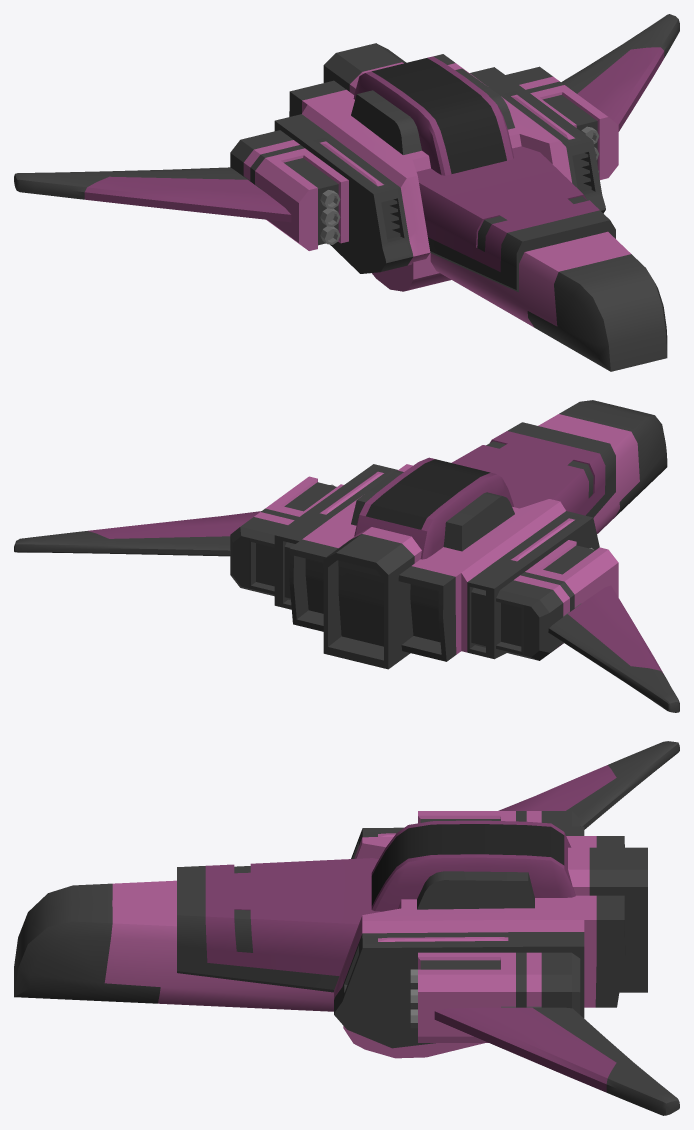
The model's file is concord_fighter_b.repacked.glb.
The picture shows the model from 3 angles, top to bottom: view 1: azimuth 30°, elevation 25°; view 2: azimuth 150°, elevation 25°; view 3: azimuth 270°, elevation 25°; orthographic projection. The views are drawn at different scales.
Parts seen in each view (by area): view 1: Spaceship_FernandoTheFlamingo; view 2: Spaceship_FernandoTheFlamingo; view 3: Spaceship_FernandoTheFlamingo.
Boxes of the visible parts, x1=… form: Spaceship_FernandoTheFlamingo: x1=14, y1=14, x2=679, y2=371; Spaceship_FernandoTheFlamingo: x1=14, y1=400, x2=679, y2=712; Spaceship_FernandoTheFlamingo: x1=14, y1=741, x2=679, y2=1115.
Bounding box in the file's own units: 11.14 × 2.53 × 8.66.
Materials: 1 (1 with a texture image).
